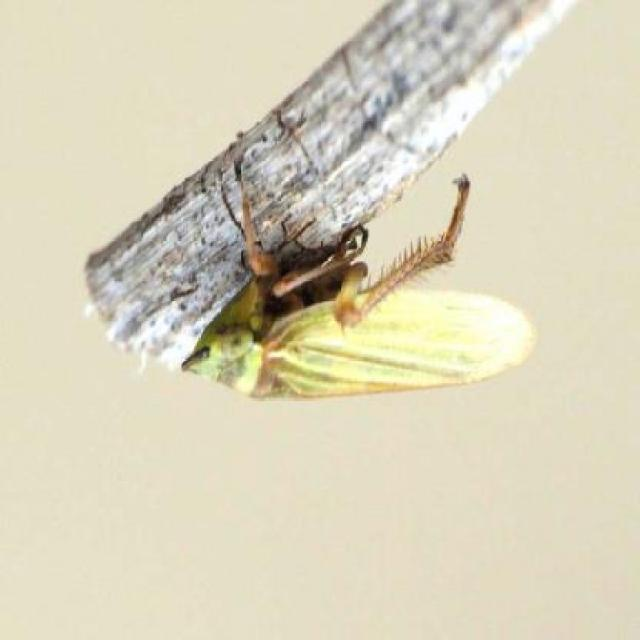green-leafhopper: (183, 166, 545, 411)
